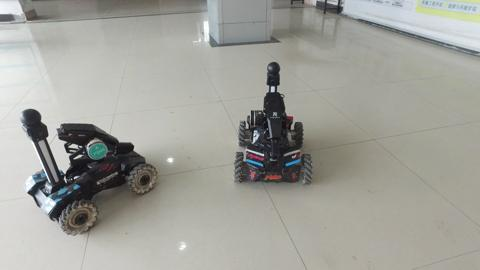chariot: (14, 106, 165, 235), (228, 59, 314, 188)
